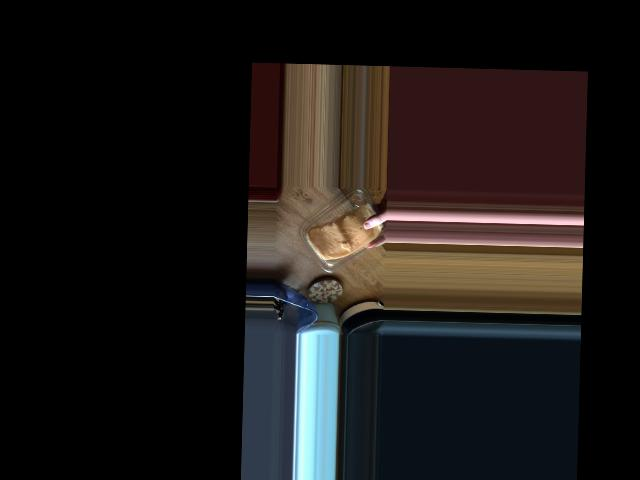cheese: (288, 188, 380, 281)
